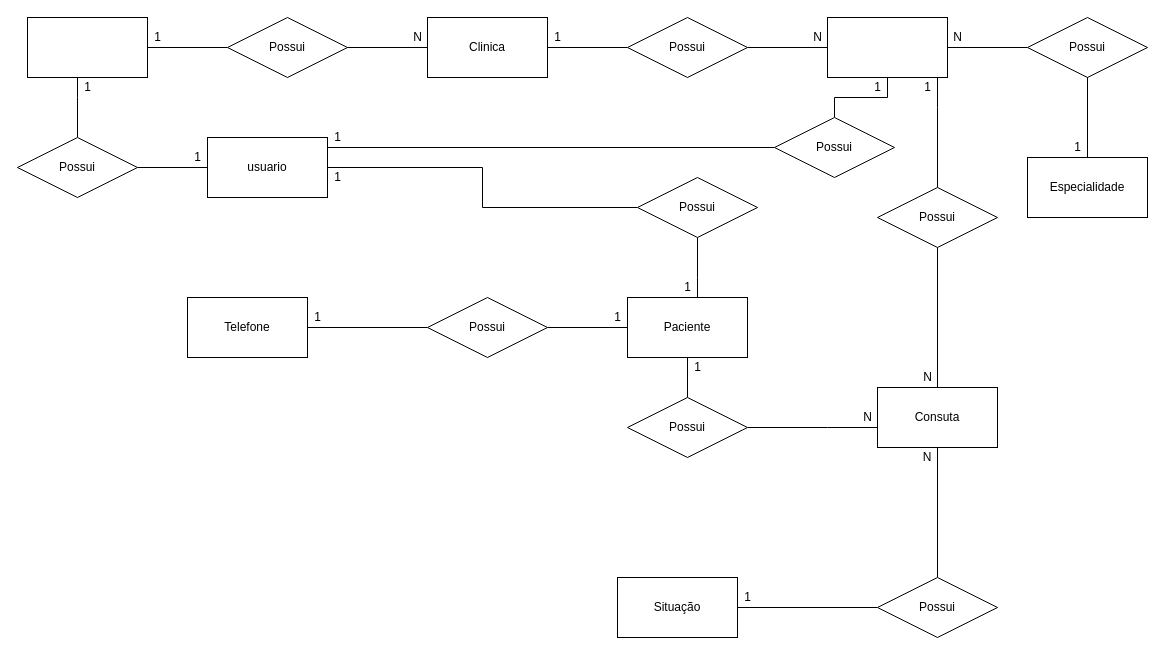
Image size: 1165x655. Some labels were removed from this diagram. Here are the shapes that lost their labels. From the top down, the centre of each, then its label:
At point 87,47: "Administrador".
At point 887,47: "Médico".
